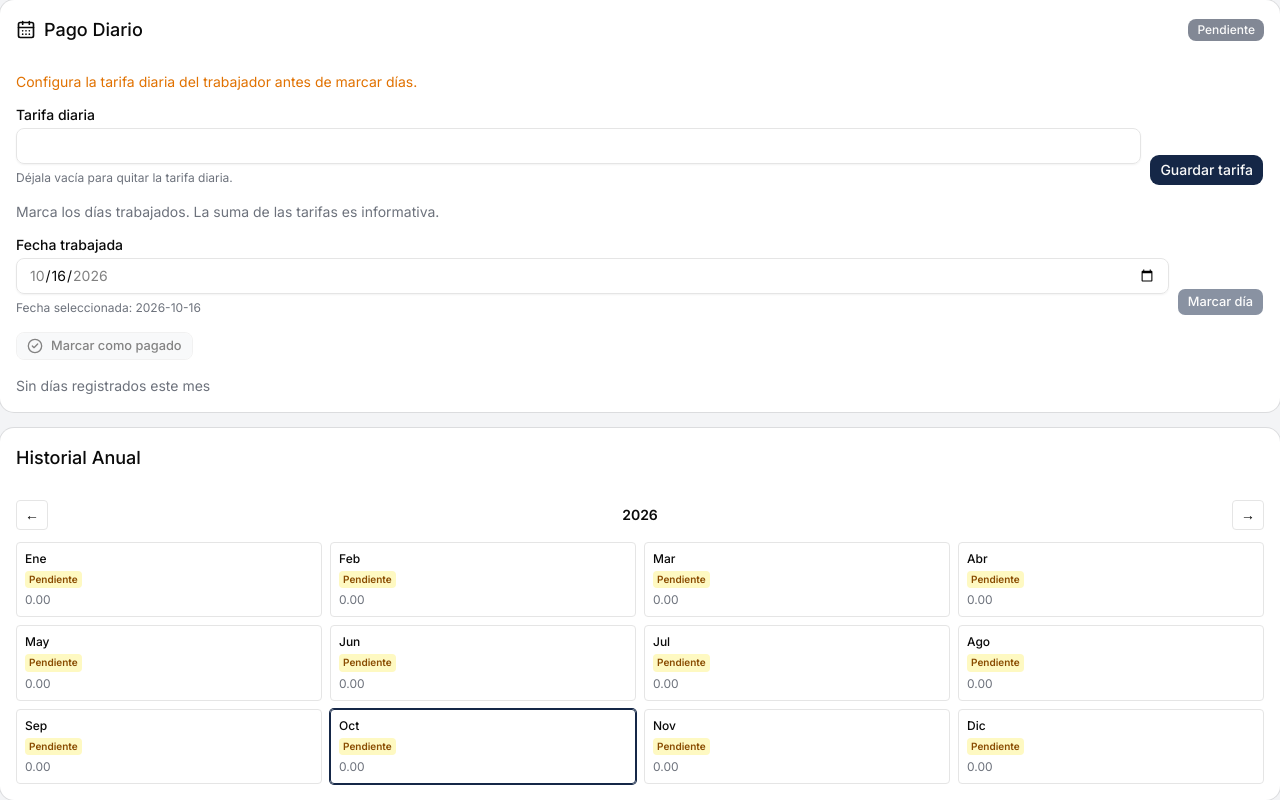
it: DailyPayPanel › muestra el control y permite quitar la tarifa diaria
The width and height of the screenshot is (1280, 800).
Expected: the text "Configura la tarifa diaria del trabajador" is shown, [16,73,417,90]
Expected: the number field labelled "Tarifa diaria" is not empty, [16,128,1141,164]
Click the button "Guardar tarifa".
click(1207, 170)  # box [1149,154,1264,186]
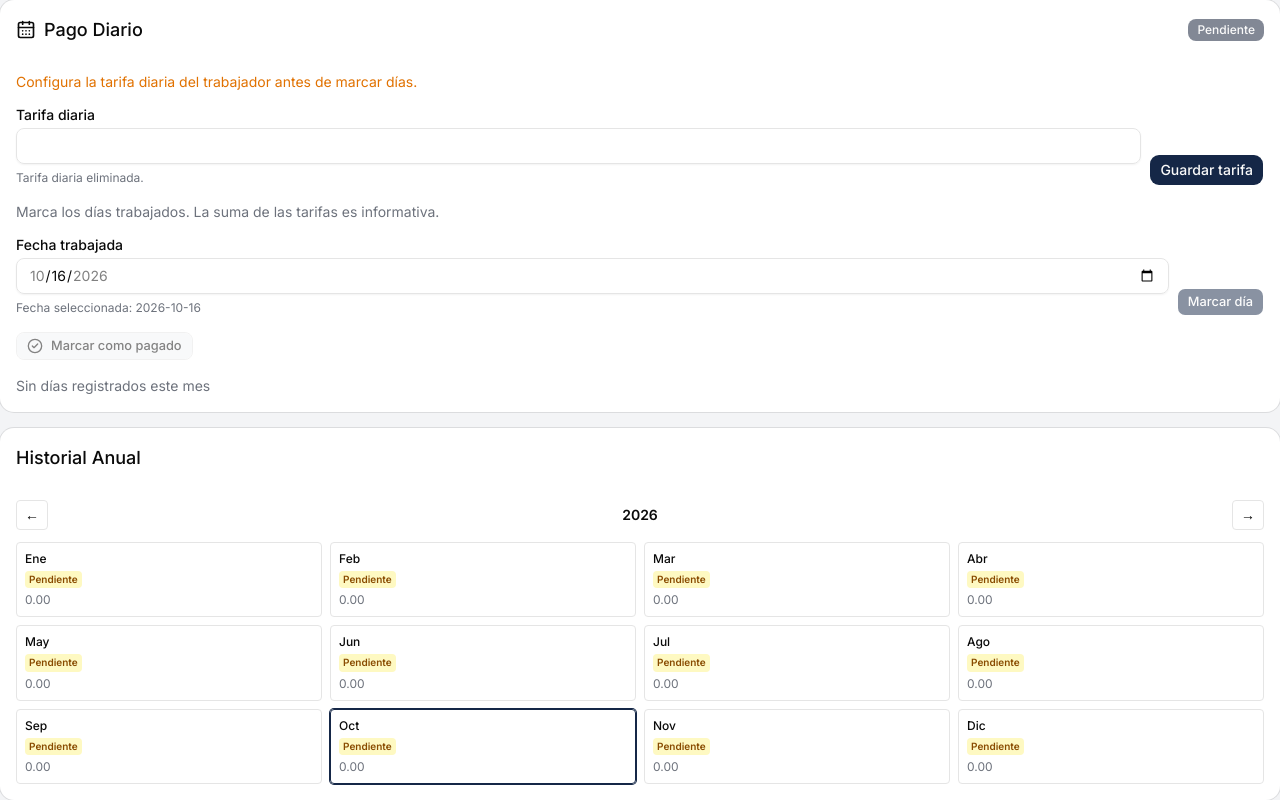
Now the text "Tarifa diaria eliminada." is shown, box [16,170,144,185]
